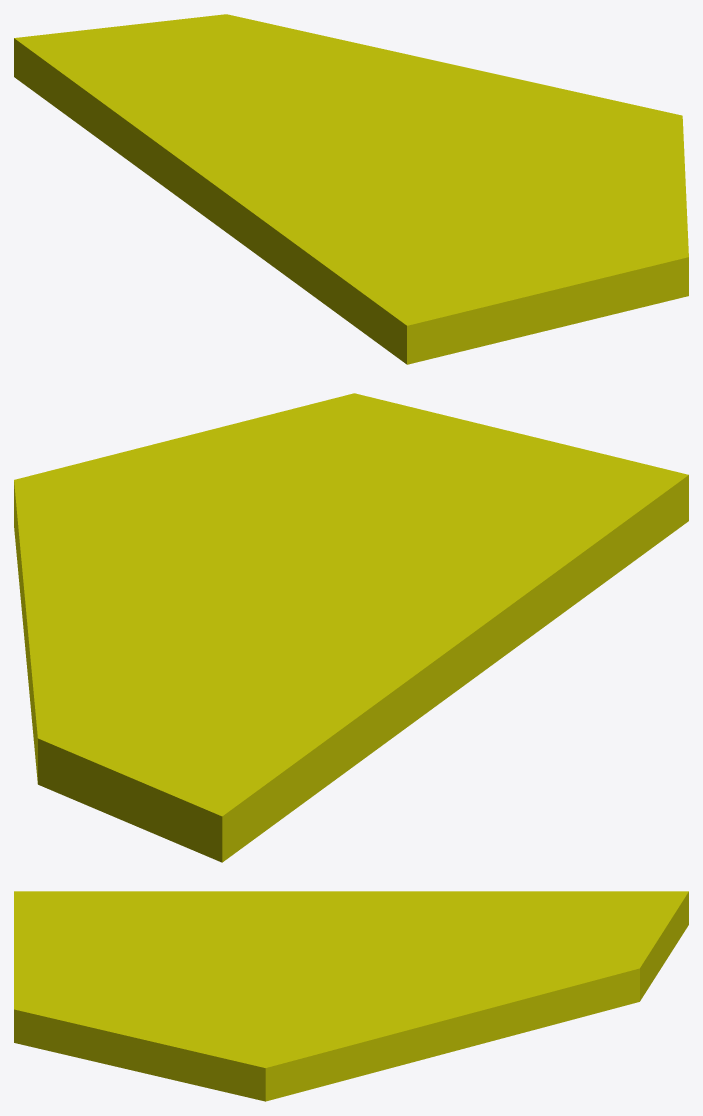
Rendered from x_proval_00_185_1_rmstrd.fbx.
The picture shows the model from 3 angles, top to bottom: view 1: azimuth 30°, elevation 25°; view 2: azimuth 150°, elevation 25°; view 3: azimuth 270°, elevation 25°; orthographic projection. The views are drawn at different scales.
Visible parts, largest first — view 1: x_proval_00_185_1_rmstrd1; view 2: x_proval_00_185_1_rmstrd1; view 3: x_proval_00_185_1_rmstrd1.
Boxes of the visible parts, x1,y1,x2,y2 form: x_proval_00_185_1_rmstrd1: [14, 14, 688, 364]; x_proval_00_185_1_rmstrd1: [14, 393, 688, 862]; x_proval_00_185_1_rmstrd1: [14, 891, 688, 1101].
Size of the model in its own units: 2.27 by 0.2 by 3.66.
